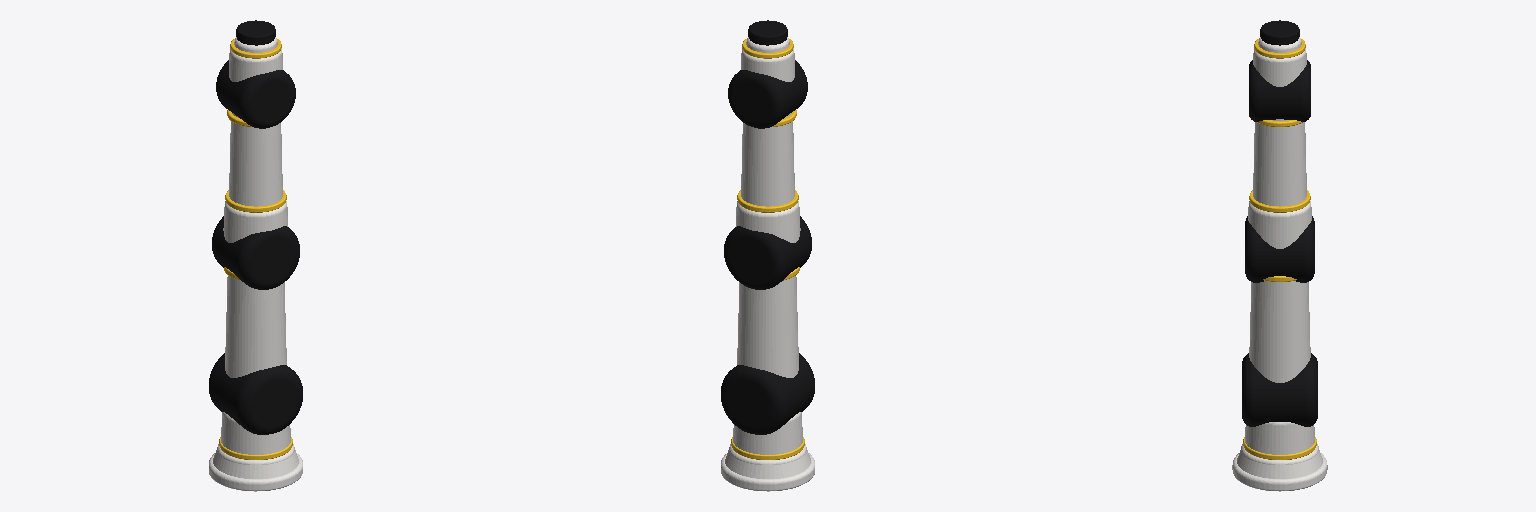
robot.urdf — omniarm6:
<?xml version='1.0' encoding='utf-8'?>
<!--
  OmniArm 6 - OmniSim's generic 6-axis collaborative arm.

  A vendor-neutral reference cobot: 6 revolute joints, 800 mm reach
  (380 mm upper arm + 420 mm forearm), ~25 kg. Gripper variants live beside
  this file (2F-85, 2F-140, suction, gum-grip).

  All geometry is authored in this repository. The visual shells are primitive
  solids emitted by scripts/dev/gen_omnisim_robot_visuals.py; collision
  geometry is primitive cylinders. No mesh, texture or CAD file from any third
  party is used, and nothing here is imported or derived from a vendor product
  model.

  See PROVENANCE.md.
-->
<robot name="omniarm6">

	<link name="link0">
		<inertial>
			<origin rpy="0 0 0" xyz="-0.00090289 -3.524e-05 0.0464554" />
			<mass value="2.002" />
			<inertia ixx="0.00382661" ixy="-1.191e-05" ixz="-3.816e-05" iyy="0.00386108" iyz="-1.6e-06" izz="0.00485705" />
		</inertial>
		<visual>
			<origin xyz="0 0 0" rpy="0 0 0" />
			<geometry>
				<mesh filename="meshes/link0_shell.obj" />
			</geometry>
			<material name="omnisim_shell">
				<color rgba="0.898 0.894 0.882 1.0" />
				<omnisim roughness="0.42" metalness="0.0" />
			</material>
		</visual>
		<visual>
			<origin xyz="0 0 0" rpy="0 0 0" />
			<geometry>
				<mesh filename="meshes/link0_accent.obj" />
			</geometry>
			<material name="omnisim_accent">
				<color rgba="0.965 0.780 0.204 1.0" />
				<omnisim roughness="0.35" metalness="0.2" />
			</material>
		</visual>
<collision>
			<origin xyz="-0.02 0 0.037" rpy="0 0 0" />
			<geometry>
				<cylinder radius="0.12" length="0.075" />
			</geometry>
		</collision>
	</link>

	<link name="link1">
		<inertial>
			<origin rpy="0 0 0" xyz="2.496e-05 0.0196556 0.169149" />
			<mass value="8.256" />
			<inertia ixx="0.0447417" ixy="-5.18e-06" ixz="3.29e-06" iyy="0.038383" iyz="-0.00805897" izz="0.0211142" />
		</inertial>
		<visual>
			<origin xyz="0 0 0" rpy="0 0 0" />
			<geometry>
				<mesh filename="meshes/link1_shell.obj" />
			</geometry>
			<material name="omnisim_shell">
				<color rgba="0.898 0.894 0.882 1.0" />
				<omnisim roughness="0.42" metalness="0.0" />
			</material>
		</visual>
		<visual>
			<origin xyz="0 0 0" rpy="0 0 0" />
			<geometry>
				<mesh filename="meshes/link1_joint.obj" />
			</geometry>
			<material name="omnisim_joint">
				<color rgba="0.129 0.129 0.137 1.0" />
				<omnisim roughness="0.28" metalness="0.85" />
			</material>
		</visual>
<collision>
			<origin xyz="0 0.01 0.17" rpy="0 0 0" />
			<geometry>
				<cylinder radius="0.10" length="0.23" />
			</geometry>
		</collision>
	</link>

	<link name="link2">
		<inertial>
			<origin rpy="0 0 0" xyz="-4.02745e-06 0.113023 0.158393" />
			<mass value="3.9668" />
			<inertia ixx="0.100126" ixy="1.52983e-07" ixz="4.2228e-06" iyy="0.0997161" iyz="0.00215017" izz="0.00646289" />
		</inertial>
		<visual>
			<origin xyz="0 0 0" rpy="0 0 0" />
			<geometry>
				<mesh filename="meshes/link2_shell.obj" />
			</geometry>
			<material name="omnisim_shell">
				<color rgba="0.898 0.894 0.882 1.0" />
				<omnisim roughness="0.42" metalness="0.0" />
			</material>
		</visual>
		<visual>
			<origin xyz="0 0 0" rpy="0 0 0" />
			<geometry>
				<mesh filename="meshes/link2_accent.obj" />
			</geometry>
			<material name="omnisim_accent">
				<color rgba="0.965 0.780 0.204 1.0" />
				<omnisim roughness="0.35" metalness="0.2" />
			</material>
		</visual>
		<visual>
			<origin xyz="0 0 0" rpy="0 0 0" />
			<geometry>
				<mesh filename="meshes/link2_joint.obj" />
			</geometry>
			<material name="omnisim_joint">
				<color rgba="0.129 0.129 0.137 1.0" />
				<omnisim roughness="0.28" metalness="0.85" />
			</material>
		</visual>
<collision>
			<origin xyz="0 0.13 0.185" rpy="0 0 0" />
			<geometry>
				<cylinder radius="0.10" length="0.49" />
			</geometry>
		</collision>
	</link>

	<link name="link3">
		<inertial>
			<origin rpy="0 -0 0" xyz="-3.51946e-05 0.0177216 0.04073" />
			<mass value="5.26105" />
			<inertia ixx="0.0206029" ixy="1.61027e-05" ixz="2.308e-06" iyy="0.016636" iyz="0.00374158" izz="0.010099" />
		</inertial>
		<visual>
			<origin xyz="0 0 0" rpy="0 0 0" />
			<geometry>
				<mesh filename="meshes/link3_shell.obj" />
			</geometry>
			<material name="omnisim_shell">
				<color rgba="0.898 0.894 0.882 1.0" />
				<omnisim roughness="0.42" metalness="0.0" />
			</material>
		</visual>
		<visual>
			<origin xyz="0 0 0" rpy="0 0 0" />
			<geometry>
				<mesh filename="meshes/link3_accent.obj" />
			</geometry>
			<material name="omnisim_accent">
				<color rgba="0.965 0.780 0.204 1.0" />
				<omnisim roughness="0.35" metalness="0.2" />
			</material>
		</visual>
<collision>
			<origin xyz="0 0 0.04" rpy="0 0 0" />
			<geometry>
				<cylinder radius="0.10" length="0.20" />
			</geometry>
		</collision>
	</link>

	<link name="link4">
		<inertial>
			<origin rpy="0 -0 0" xyz="8.08281e-05 0.044542 0.241911" />
			<mass value="2.271" />
			<inertia ixx="0.0342334" ixy="3.365e-06" ixz="-4.11571e-06" iyy="0.0311273" iyz="-0.00818683" izz="0.00522653" />
		</inertial>
		<visual>
			<origin xyz="0 0 0" rpy="0 0 0" />
			<geometry>
				<mesh filename="meshes/link4_shell.obj" />
			</geometry>
			<material name="omnisim_shell">
				<color rgba="0.898 0.894 0.882 1.0" />
				<omnisim roughness="0.42" metalness="0.0" />
			</material>
		</visual>
		<visual>
			<origin xyz="0 0 0" rpy="0 0 0" />
			<geometry>
				<mesh filename="meshes/link4_accent.obj" />
			</geometry>
			<material name="omnisim_accent">
				<color rgba="0.965 0.780 0.204 1.0" />
				<omnisim roughness="0.35" metalness="0.2" />
			</material>
		</visual>
		<visual>
			<origin xyz="0 0 0" rpy="0 0 0" />
			<geometry>
				<mesh filename="meshes/link4_joint.obj" />
			</geometry>
			<material name="omnisim_joint">
				<color rgba="0.129 0.129 0.137 1.0" />
				<omnisim roughness="0.28" metalness="0.85" />
			</material>
		</visual>
<collision>
			<origin xyz="0 0.035 0.29" rpy="0 0 0" />
			<geometry>
				<cylinder radius="0.10" length="0.35" />
			</geometry>
		</collision>
	</link>

	<link name="link5">
		<inertial>
			<origin rpy="0 -0 0" xyz="4.18387e-05 0.0147744 0.0354" />
			<mass value="2.54629" />
			<inertia ixx="0.00855547" ixy="4.97317e-06" ixz="6.07841e-06" iyy="0.00582159" iyz="0.00129227" izz="0.00358312" />
		</inertial>
		<visual>
			<origin xyz="0 0 0" rpy="0 0 0" />
			<geometry>
				<mesh filename="meshes/link5_shell.obj" />
			</geometry>
			<material name="omnisim_shell">
				<color rgba="0.898 0.894 0.882 1.0" />
				<omnisim roughness="0.42" metalness="0.0" />
			</material>
		</visual>
		<visual>
			<origin xyz="0 0 0" rpy="0 0 0" />
			<geometry>
				<mesh filename="meshes/link5_accent.obj" />
			</geometry>
			<material name="omnisim_accent">
				<color rgba="0.965 0.780 0.204 1.0" />
				<omnisim roughness="0.35" metalness="0.2" />
			</material>
		</visual>
<collision>
			<origin xyz="0 0 0.04" rpy="0 0 0" />
			<geometry>
				<cylinder radius="0.10" length="0.18" />
			</geometry>
		</collision>
	</link>

	<link name="link6">
		<inertial>
			<origin rpy="0 -0 0" xyz="-2.51647e-06 0.000204679 0.12067" />
			<mass value="0.577639" />
			<inertia ixx="0.00034085" ixy="1.01877e-06" ixz="-1.4781e-07" iyy="0.00038675" iyz="-1.06647e-06" izz="0.000536577" />
		</inertial>
		<visual>
			<origin xyz="0 0 0" rpy="0 0 0" />
			<geometry>
				<mesh filename="meshes/link6_shell.obj" />
			</geometry>
			<material name="omnisim_shell">
				<color rgba="0.898 0.894 0.882 1.0" />
				<omnisim roughness="0.42" metalness="0.0" />
			</material>
		</visual>
		<visual>
			<origin xyz="0 0 0" rpy="0 0 0" />
			<geometry>
				<mesh filename="meshes/link6_joint.obj" />
			</geometry>
			<material name="omnisim_joint">
				<color rgba="0.129 0.129 0.137 1.0" />
				<omnisim roughness="0.28" metalness="0.85" />
			</material>
		</visual>
<collision>
			<origin xyz="0 0 0.083" rpy="0 0 0" />
			<geometry>
				<cylinder radius="0.05" length="0.165" />
			</geometry>
		</collision>
	</link>

	<link name="flange">
	</link>

	<link name="gripper_tcp">
	</link>


	<joint name="joint1" type="revolute">
		<limit lower="-3.14159" upper="3.14159" effort="194" velocity="3.1415" />
		<origin rpy="0 0 0" xyz="0 0 0" />
		<parent link="link0" />
		<child link="link1" />
		<axis xyz="0 0 1" />
	</joint>

	<joint name="joint2" type="revolute">
		<limit lower="-3.14159" upper="3.14159" effort="194" velocity="3.1415" />
		<origin rpy="0 0 0" xyz="0 0 0.22" />
		<parent link="link1" />
		<child link="link2" />
		<axis xyz="0 1 0" />
	</joint>

	<joint name="joint3" type="revolute">
		<limit lower="-2.61799" upper="2.61799" effort="102" velocity="3.1415" />
		<origin rpy="0 0 0" xyz="0 0 0.38" />
		<parent link="link2" />
		<child link="link3" />
		<axis xyz="0 1 0" />
	</joint>

	<joint name="joint4" type="revolute">
		<limit lower="-6.28319" upper="6.28319" effort="102" velocity="3.1415" />
		<origin rpy="0 0 0" xyz="0 0 0" />
		<parent link="link3" />
		<child link="link4" />
		<axis xyz="0 0 1" />
	</joint>

	<joint name="joint5" type="revolute">
		<limit lower="-3.14159" upper="3.14159" effort="34" velocity="3.4906" />
		<origin rpy="0 0 0" xyz="0 0 0.42" />
		<parent link="link4" />
		<child link="link5" />
		<axis xyz="0 1 0" />
	</joint>

	<joint name="joint6" type="revolute">
		<limit lower="-6.28319" upper="6.28319" effort="34" velocity="3.4906" />
		<origin rpy="0 0 0" xyz="0 0 0" />
		<parent link="link5" />
		<child link="link6" />
		<axis xyz="0 0 1" />
	</joint>

	<joint name="link6flange" type="fixed">
		<origin rpy="0 0 0" xyz="0 0 0.1655" />
		<parent link="link6" />
		<child link="flange" />
	</joint>

	<joint name="flangegripper_tcp" type="fixed">
		<origin rpy="0 0 0" xyz="0 0 0.0" />
		<parent link="flange" />
		<child link="gripper_tcp" />
	</joint>

</robot>

--- What the picture shows (computed from the rendered views, not written in the file) ---
The picture shows the robot from 3 angles, left to right: view 1: azimuth 30°, elevation 25°; view 2: azimuth 150°, elevation 25°; view 3: azimuth 270°, elevation 25°; orthographic projection.
Model omniarm6 with 9 links and 8 joints (6 revolute, 2 fixed), rooted at link0, posed all joints at 0.
Visible links, largest first — view 1: link2, link4, link1, link0, link3, link5, link6; view 2: link2, link4, link1, link0, link3, link5, link6; view 3: link2, link4, link1, link0, link3, link5, link6.
Boxes of the visible links, box(x1,y1,x2,y2) form: link2: box(212, 216, 299, 377); link4: box(216, 60, 295, 206); link1: box(209, 353, 302, 454); link0: box(209, 437, 302, 491); link3: box(223, 190, 287, 242); link5: box(229, 39, 282, 81); link6: box(234, 20, 277, 52); link2: box(724, 216, 811, 377); link4: box(728, 60, 807, 206); link1: box(721, 353, 814, 454); link0: box(721, 437, 814, 491); link3: box(736, 190, 800, 242); link5: box(741, 39, 794, 81); link6: box(746, 20, 789, 52); link2: box(1245, 216, 1314, 382); link4: box(1249, 60, 1310, 206); link1: box(1242, 353, 1317, 454); link0: box(1232, 437, 1327, 491); link3: box(1248, 190, 1311, 248); link5: box(1253, 39, 1306, 86); link6: box(1258, 20, 1301, 52).
Bounding box of the posed robot: 0.23 × 0.23 × 1.19 m (x, y, z).
Meshes: 16 distinct files referenced, 16 mesh visuals loaded (16 OBJ).
